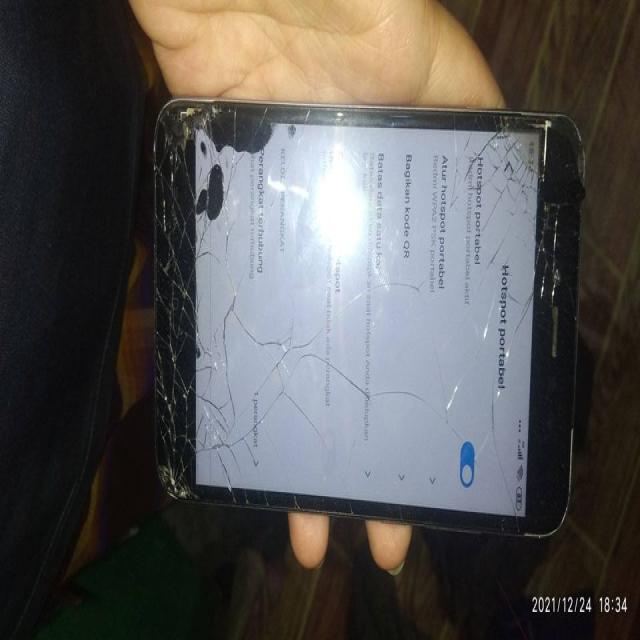phone: (161, 103, 574, 512)
